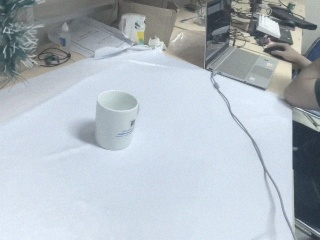box: (120, 13, 146, 47)
cup: (94, 88, 139, 150)
